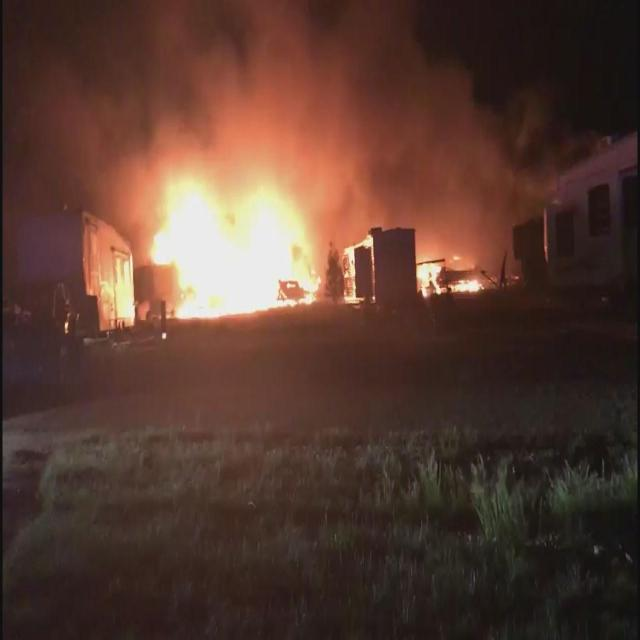Fire: (156, 175, 322, 321)
